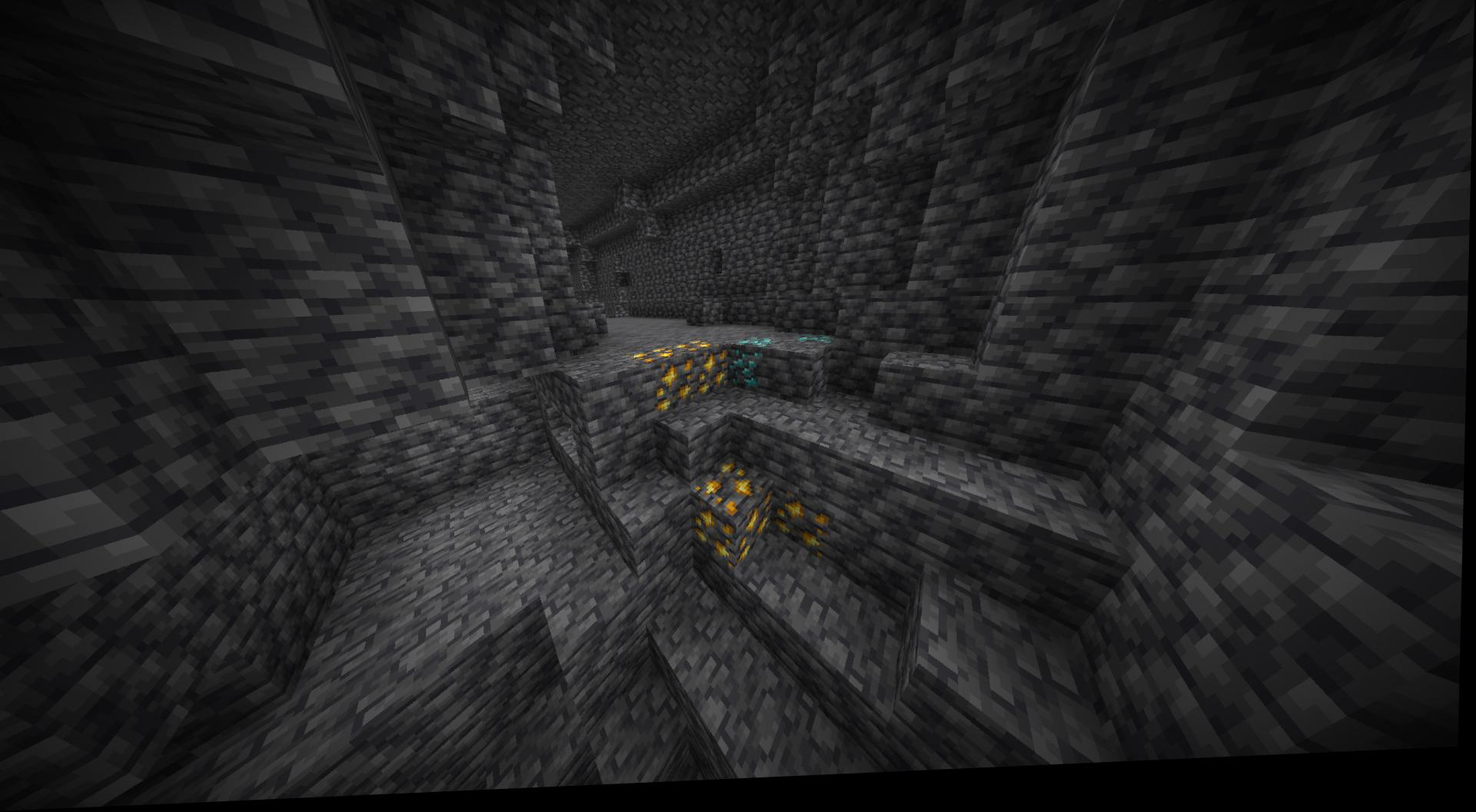diamond ore: (732, 352, 764, 404), (799, 336, 838, 358), (741, 337, 774, 360)
gold ore: (630, 345, 695, 416), (705, 464, 763, 517), (692, 513, 737, 575), (776, 505, 830, 555), (689, 341, 729, 402), (744, 494, 775, 564)
